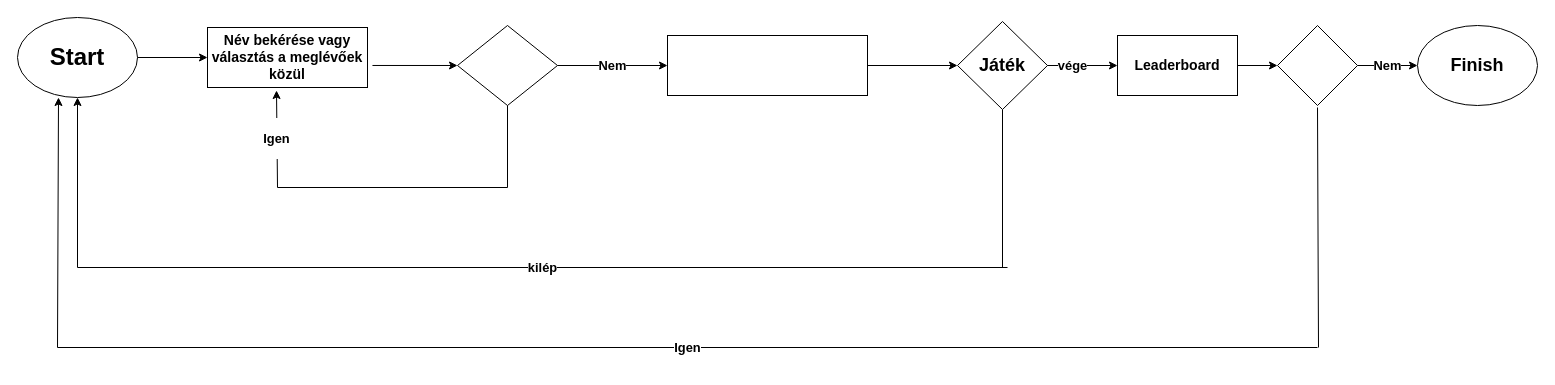
This 1555x385 diagram has some shape labels left out. The box of each missing label's shape, as (x1, y1, x2, y2) in pixels:
Kategória,Korosztály megadása: (666, 34, 868, 96)
Szerepel e már: (456, 24, 558, 106)
Új játék: (1276, 24, 1358, 106)
